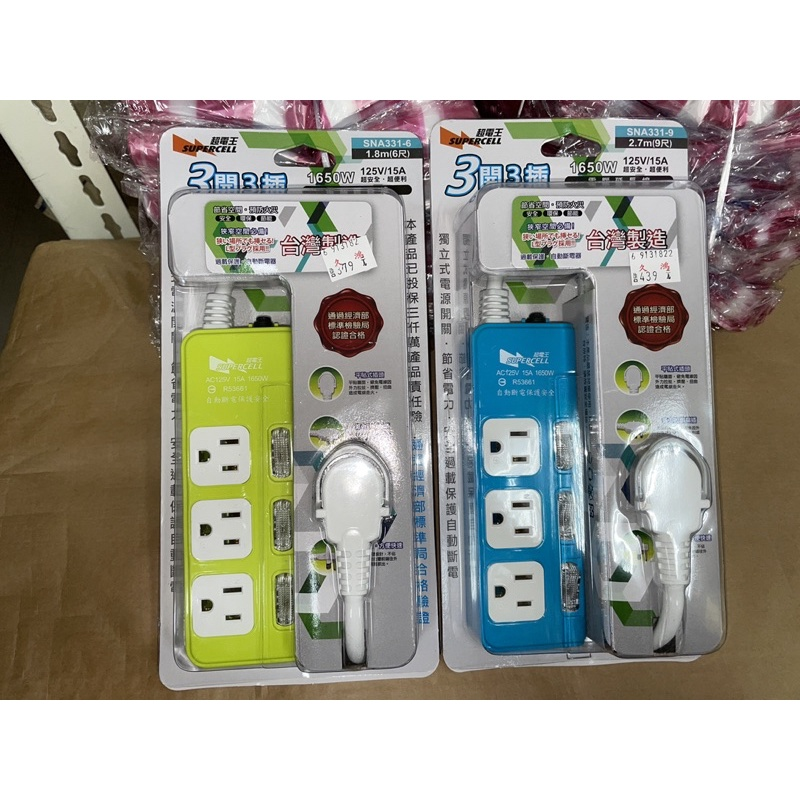socket: (176, 288, 297, 664), (470, 286, 591, 654)
